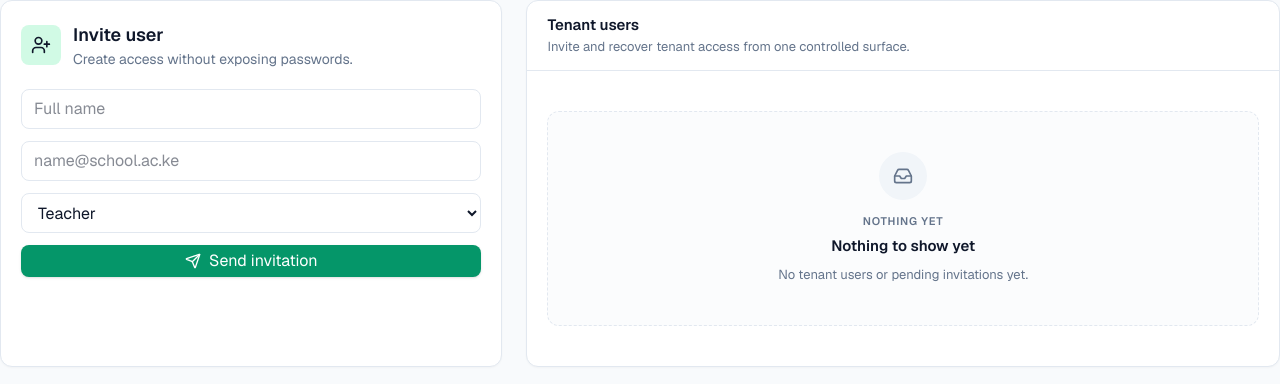
Scenario: school user management › submits tenant invitations with CSRF and the backend role_code contract
In the field with placeholder "Full name": {"x": 251, "y": 109} top-left (21, 89), bottom-right (481, 129), type "Jane Parent"
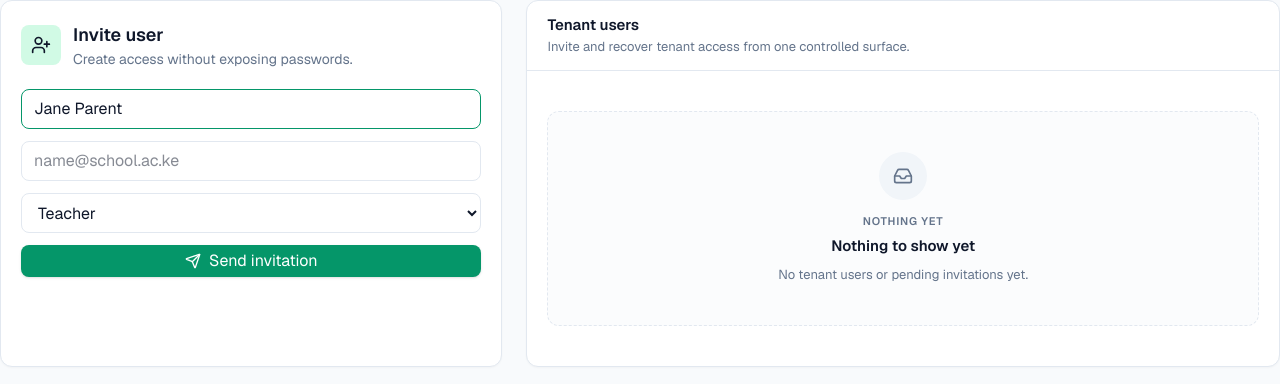
In the field with placeholder "name@school.ac.ke": {"x": 251, "y": 161} top-left (21, 141), bottom-right (481, 181), type "jane.parent@example.test"
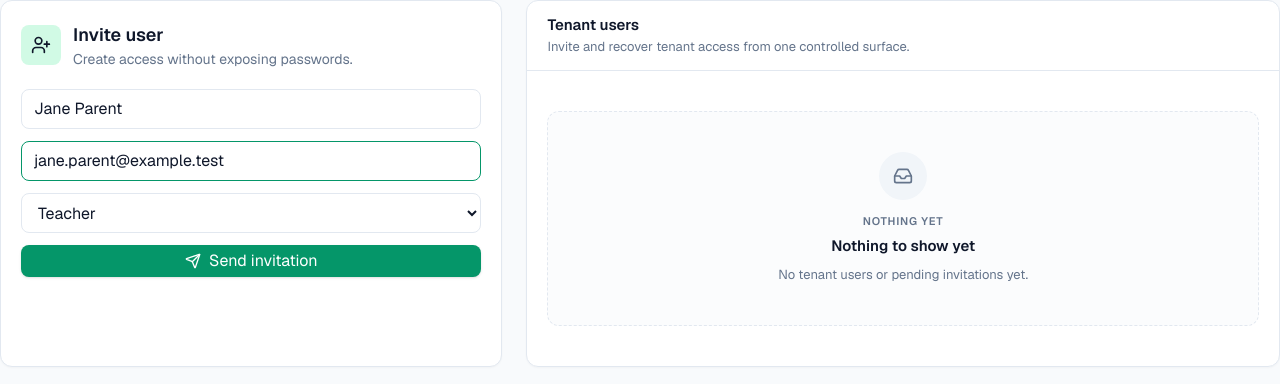
Select "Parent" in the dropdown named "role": {"x": 251, "y": 213} top-left (21, 193), bottom-right (481, 233)
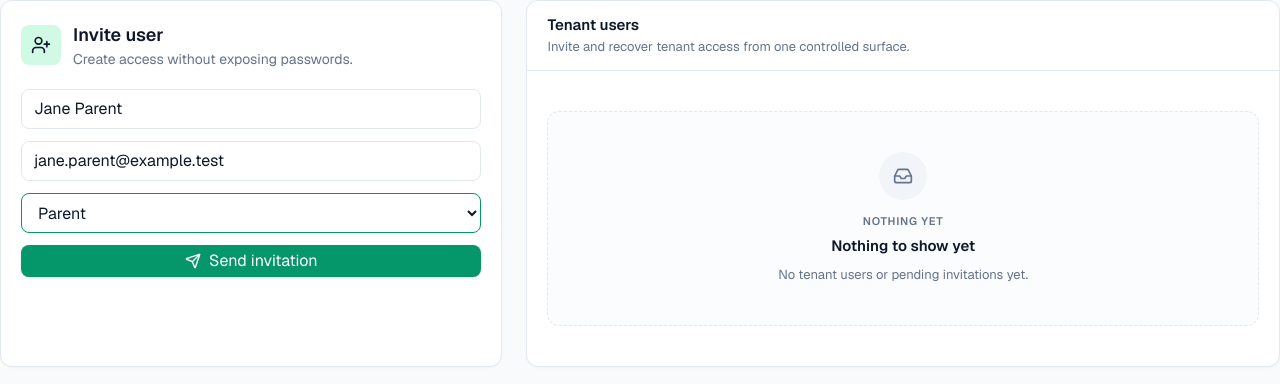
Click the button "Send invitation": {"x": 251, "y": 261} top-left (21, 245), bottom-right (481, 277)
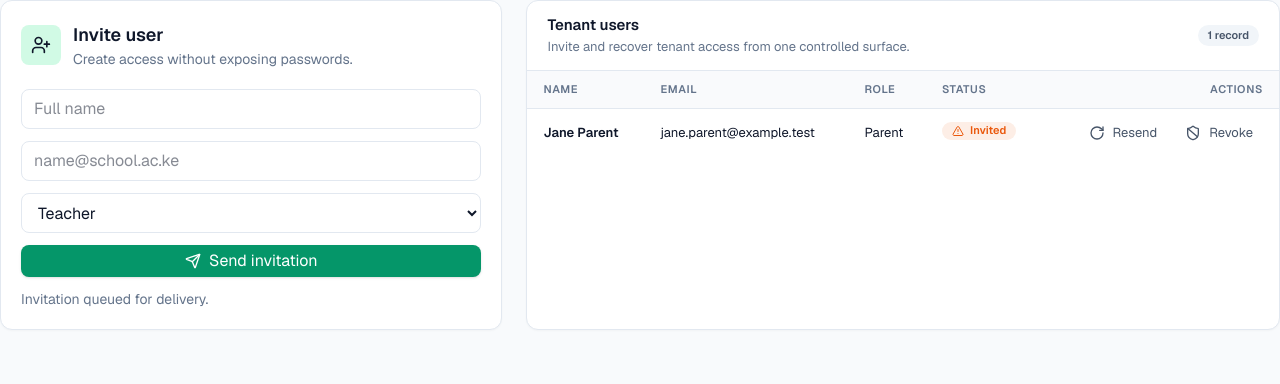
Now the text "Invitation queued for delivery." is shown, box top-left (21, 290), bottom-right (208, 308)
Now the text "Jane Parent" is shown, box top-left (543, 124), bottom-right (618, 141)
